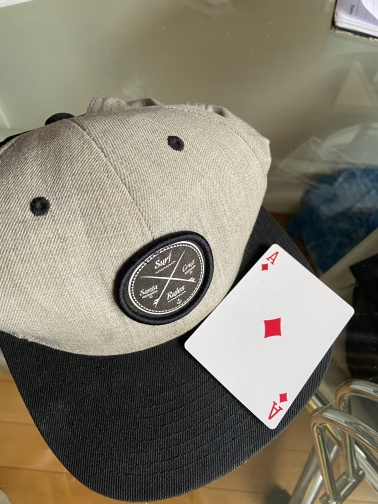ace: (182, 242, 357, 432)
